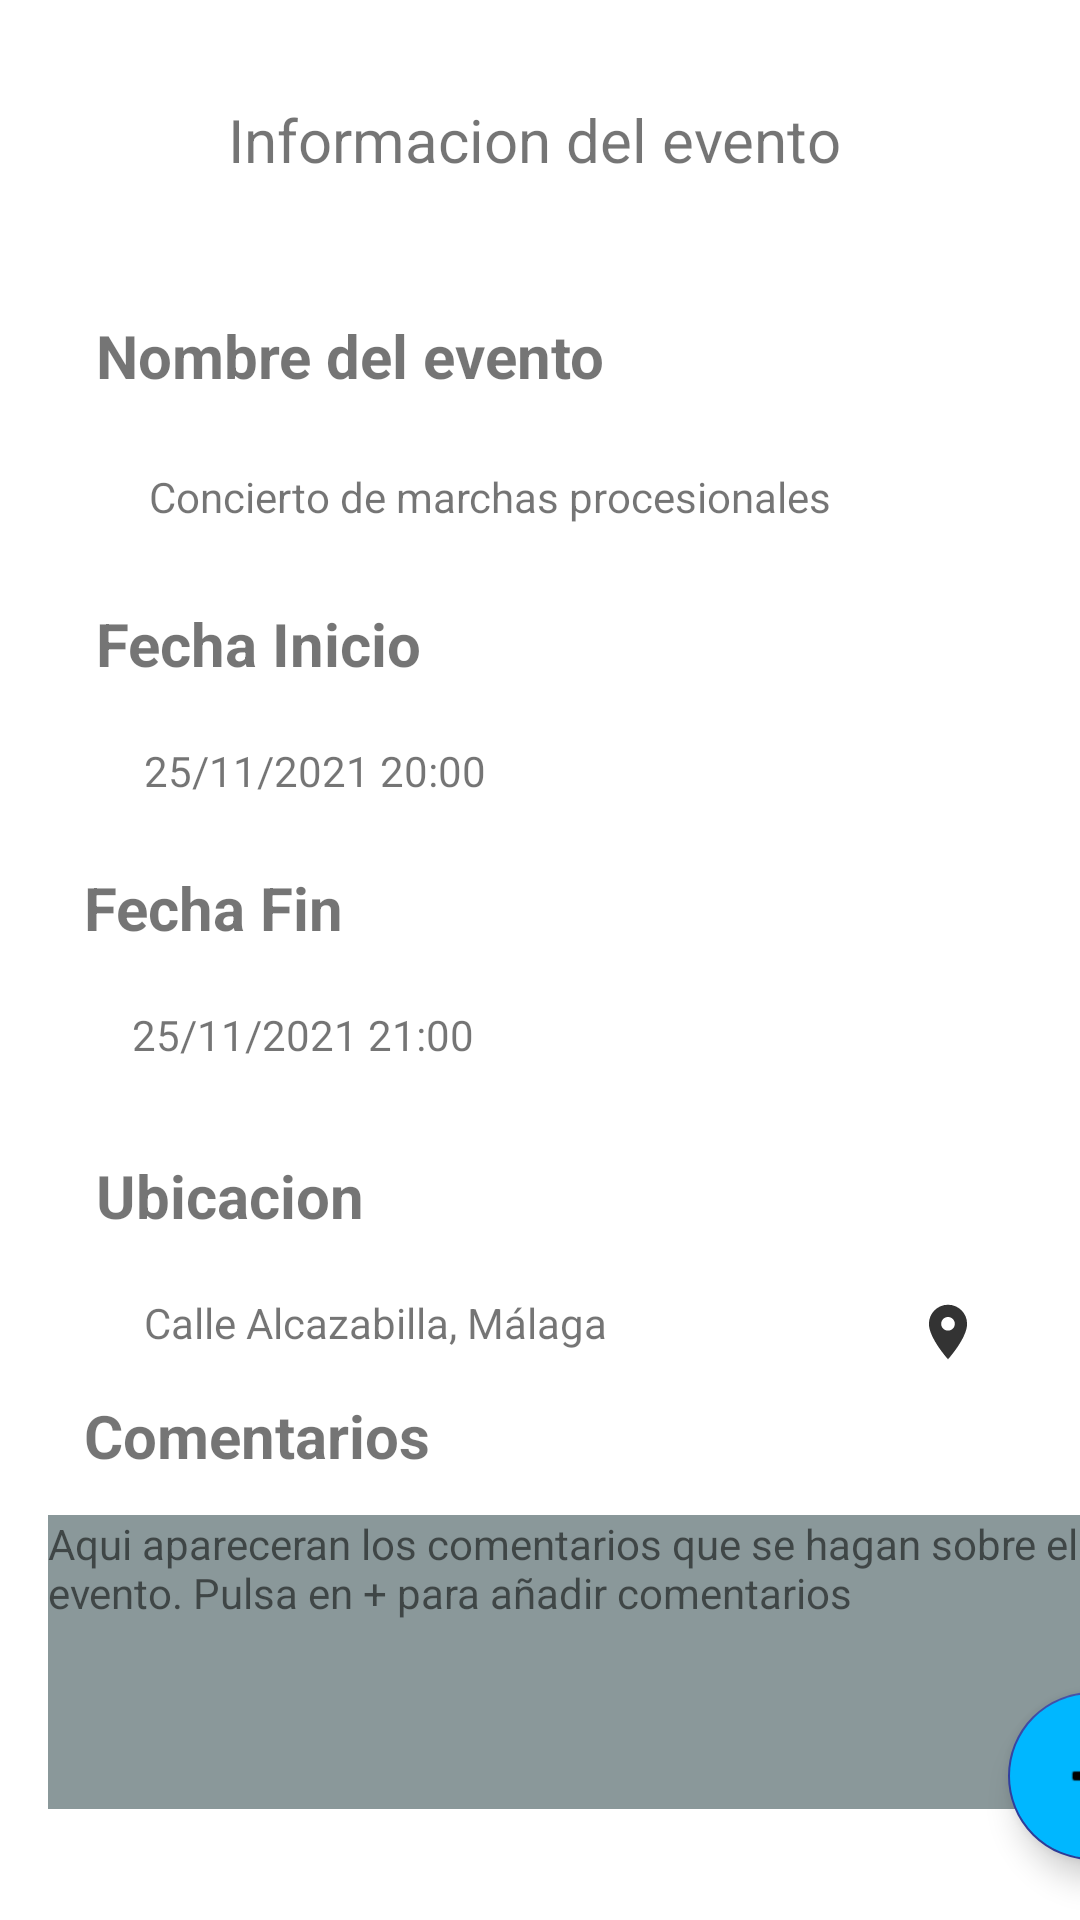

Screen size 1080w x 1920h. Icon name, then its center in pixels as point (x, y):
ubication: point (948, 1331)
